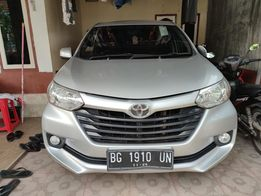plate: (108, 149, 173, 169)
